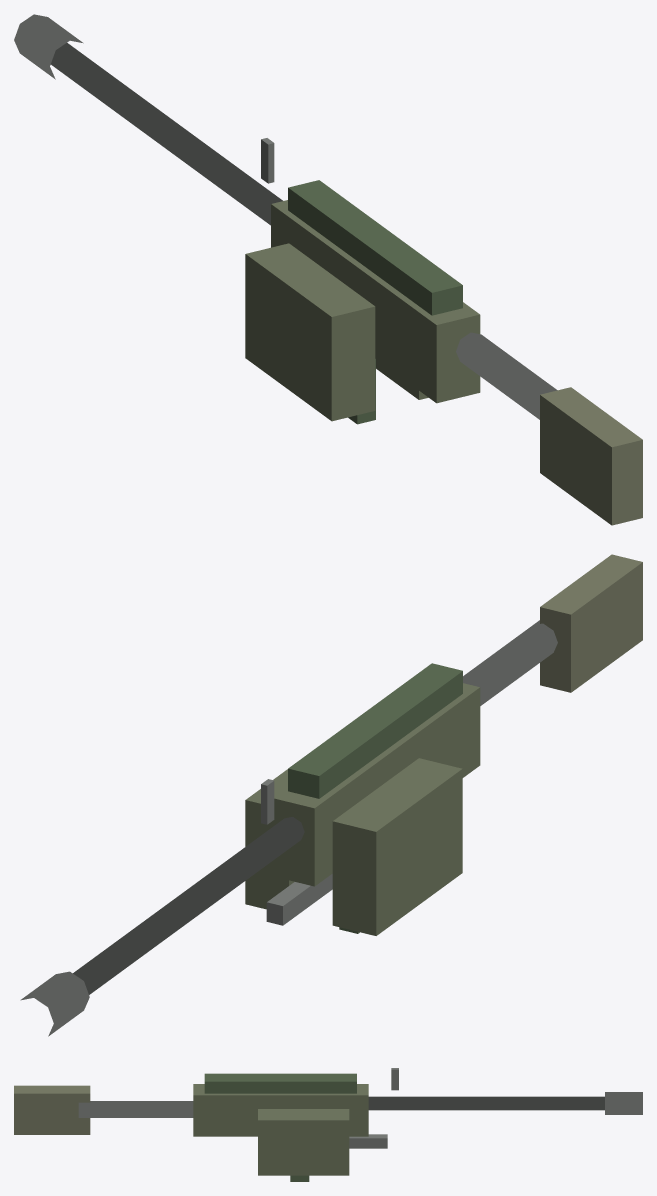
Rendered from w_pkm.glb.
The picture shows the model from 3 angles, top to bottom: view 1: azimuth 30°, elevation 25°; view 2: azimuth 150°, elevation 25°; view 3: azimuth 270°, elevation 25°; orthographic projection. The views are drawn at different scales.
Parts seen in each view (by area): view 1: body; view 2: body; view 3: body.
Part boxes in pixels (box(x1,y1,x2,y2)): body: box(14, 14, 642, 525); body: box(20, 554, 642, 1036); body: box(14, 1068, 642, 1181).
Size of the model in its own units: 0.21 by 0.32 by 1.65.
